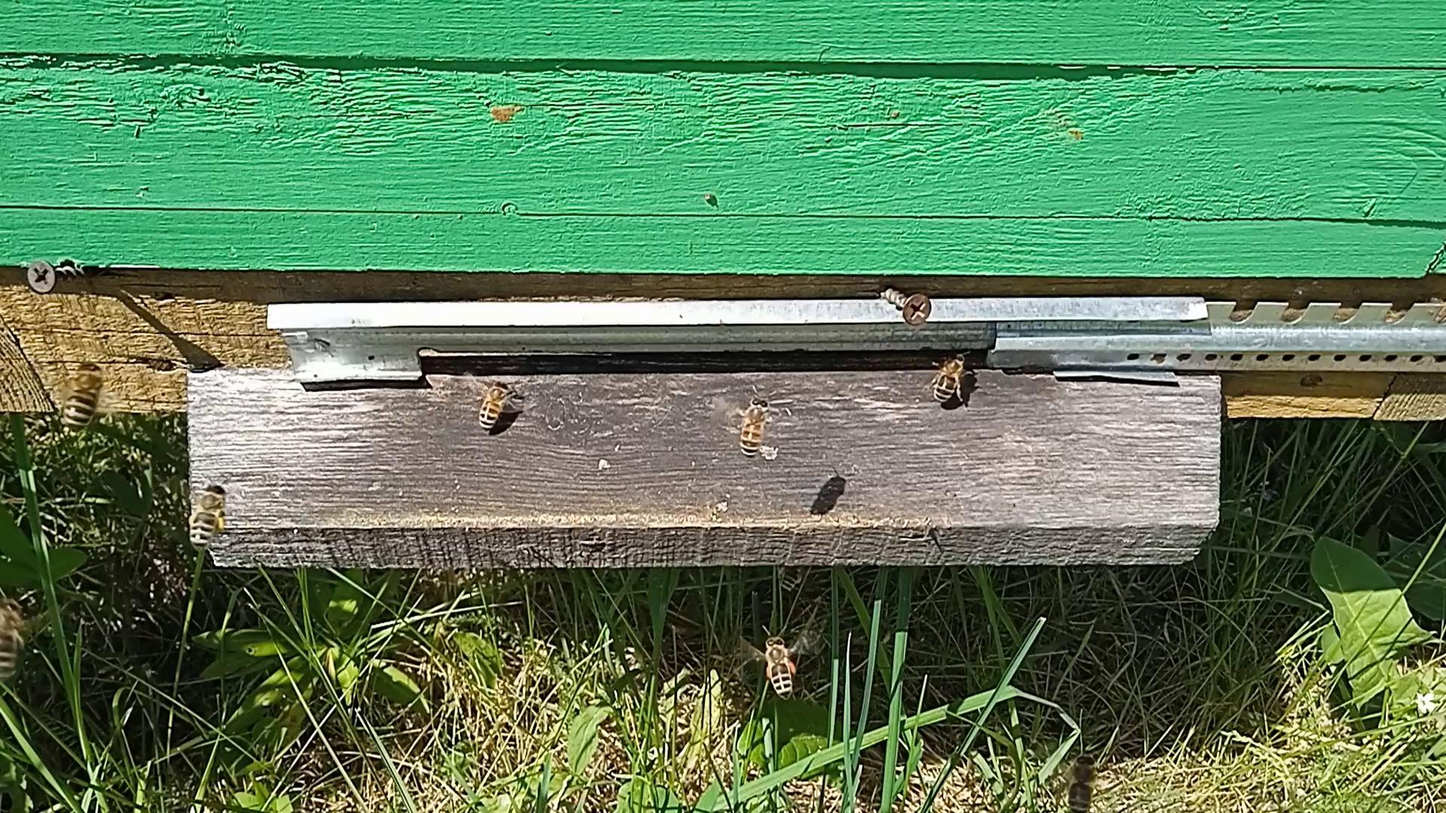worker-bee: (60, 359, 105, 433), (188, 483, 229, 550), (763, 634, 798, 700), (1, 597, 27, 682), (739, 396, 773, 458), (476, 380, 515, 431), (932, 352, 969, 404), (1066, 753, 1097, 813), (779, 568, 801, 595)
